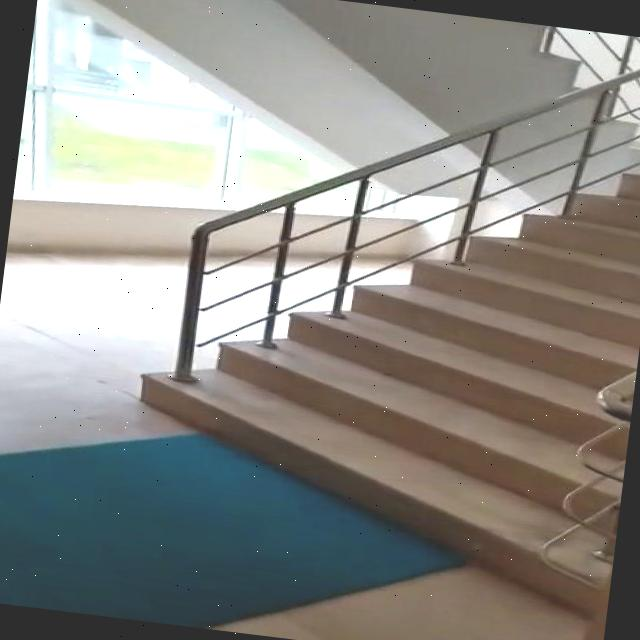stairs: (118, 97, 640, 603)
